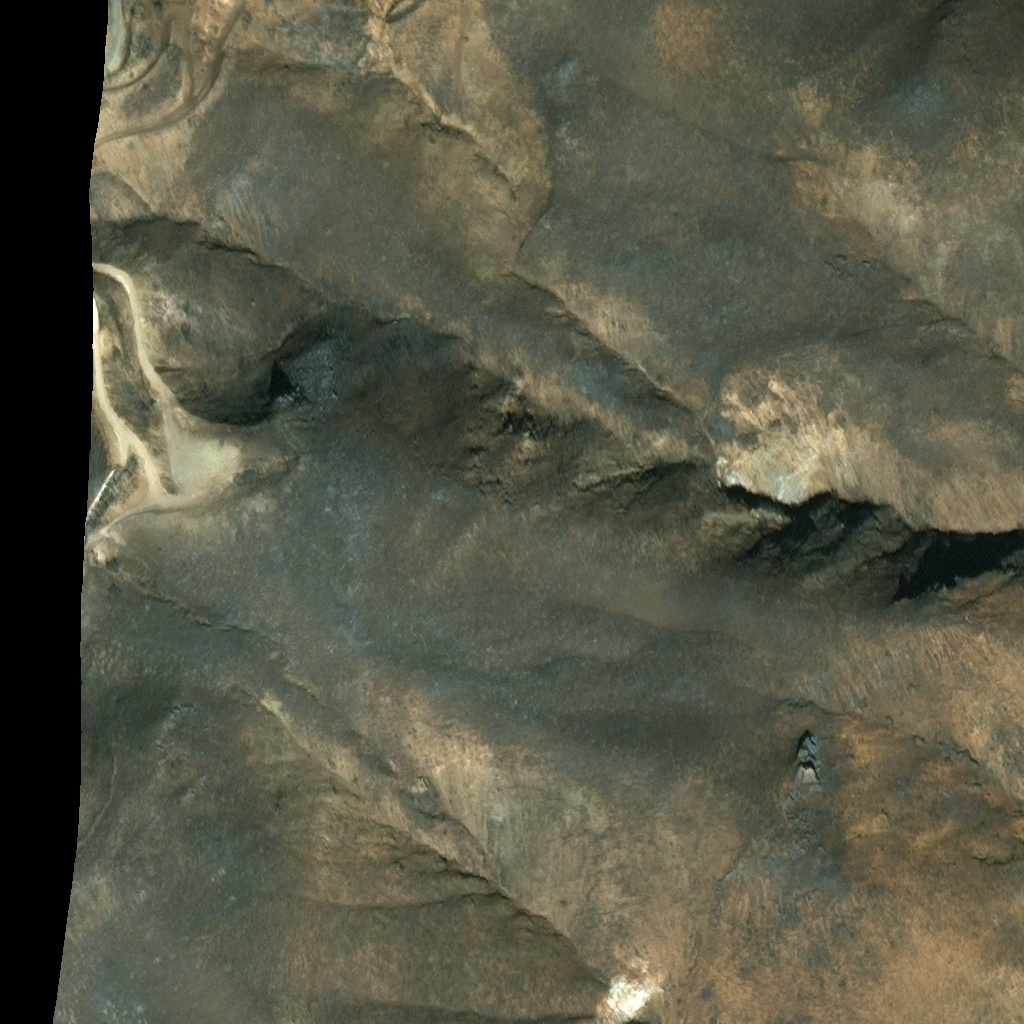3 destroyed: (93, 479, 113, 504), (108, 464, 123, 481), (86, 504, 98, 522)
